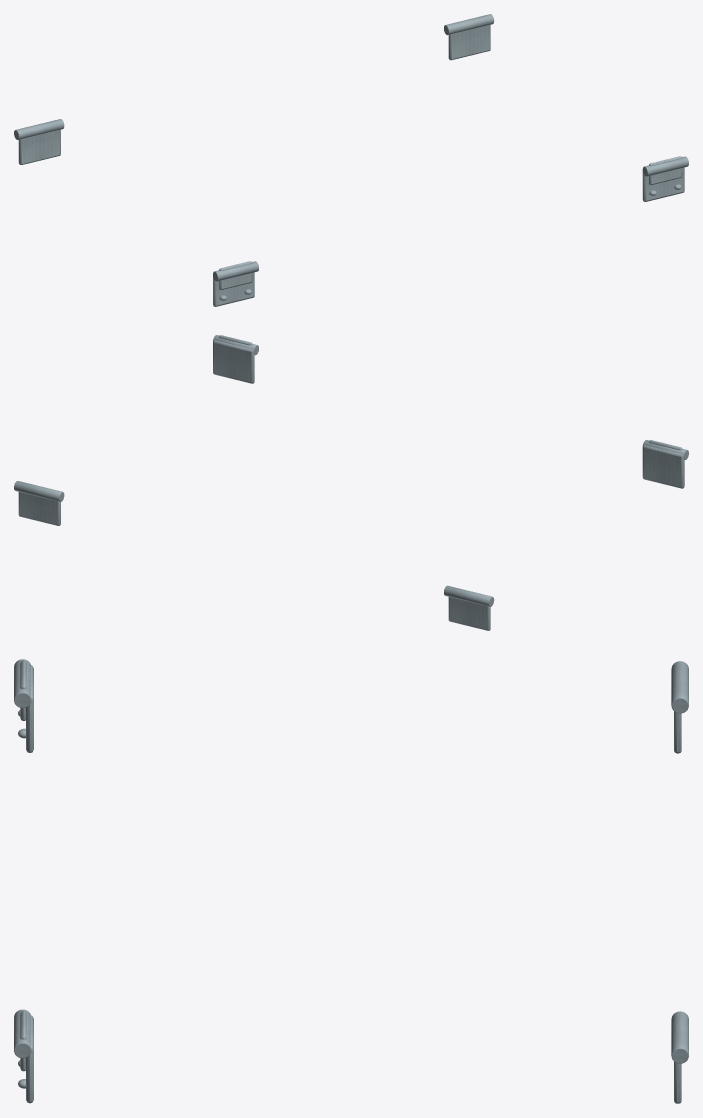
File: 36-real-hinges-and-closing-clasps.fbx
3 views of the same model, one above another, from view 1: azimuth 30°, elevation 25°; view 2: azimuth 150°, elevation 25°; view 3: azimuth 270°, elevation 25° (orthographic). The views are drawn at different scales.
Parts seen in each view (by area): view 1: real-hinges-and-closing-clasps; view 2: real-hinges-and-closing-clasps; view 3: real-hinges-and-closing-clasps.
Part boxes in pixels (x1,y1,x2,y2): real-hinges-and-closing-clasps: [14, 14, 688, 306]; real-hinges-and-closing-clasps: [14, 335, 688, 630]; real-hinges-and-closing-clasps: [14, 659, 688, 1103].
Bounding box in the file's own units: 11500 × 900 × 8470.
Materials: 1 (1 with a texture image).
